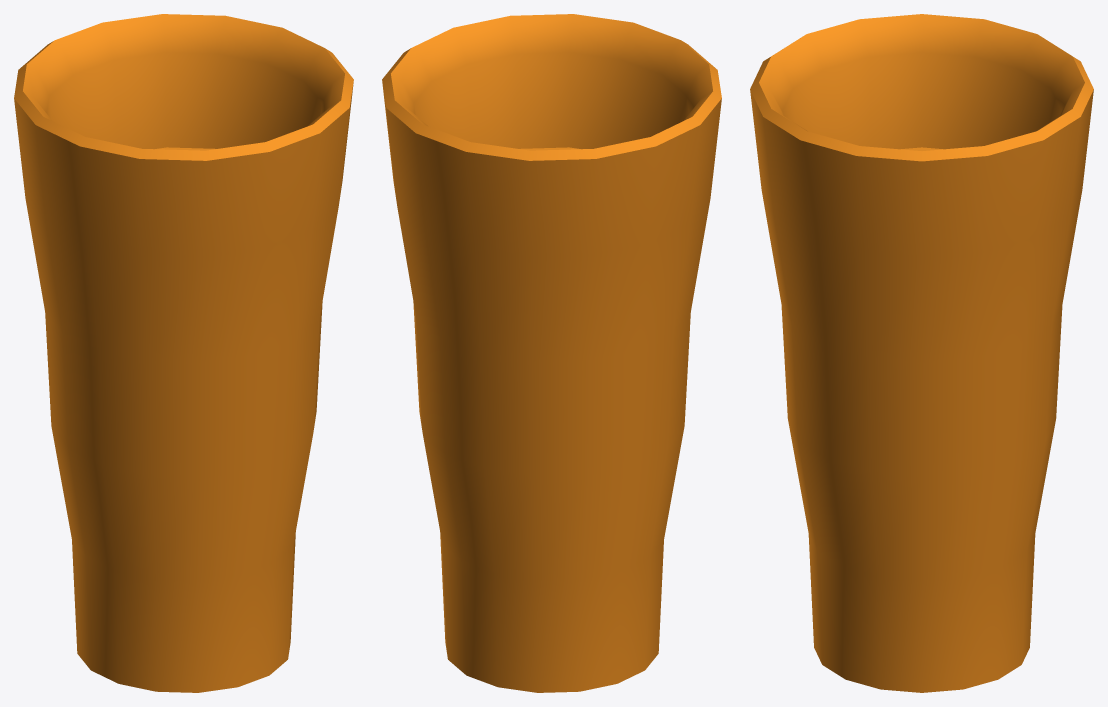
The model's file is CoralCupF.FBX.
3 renders of one model, left to right at view 1: azimuth 30°, elevation 25°; view 2: azimuth 150°, elevation 25°; view 3: azimuth 270°, elevation 25°, orthographic.
Visible parts, largest first — view 1: CoralF; view 2: CoralF; view 3: CoralF.
Part boxes in pixels (x1,y1,x2,y2): CoralF: (14,14,353,692); CoralF: (382,14,721,692); CoralF: (750,14,1093,692).
Size of the model in its own units: 58.5 by 107 by 58.77.
1 material, 1 textured.
